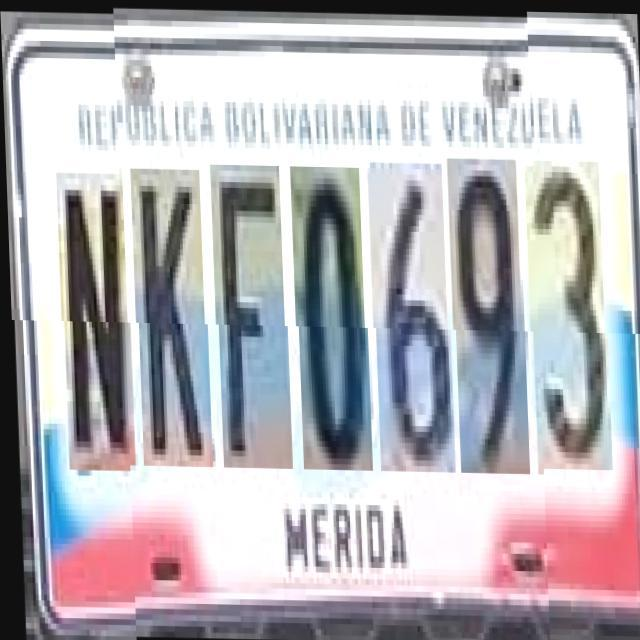3: (526, 163, 609, 473)
6: (369, 160, 452, 470)
9: (448, 156, 526, 472)
F: (212, 164, 290, 468)
K: (132, 168, 210, 466)
N: (57, 167, 132, 465)
O: (292, 165, 369, 469)
